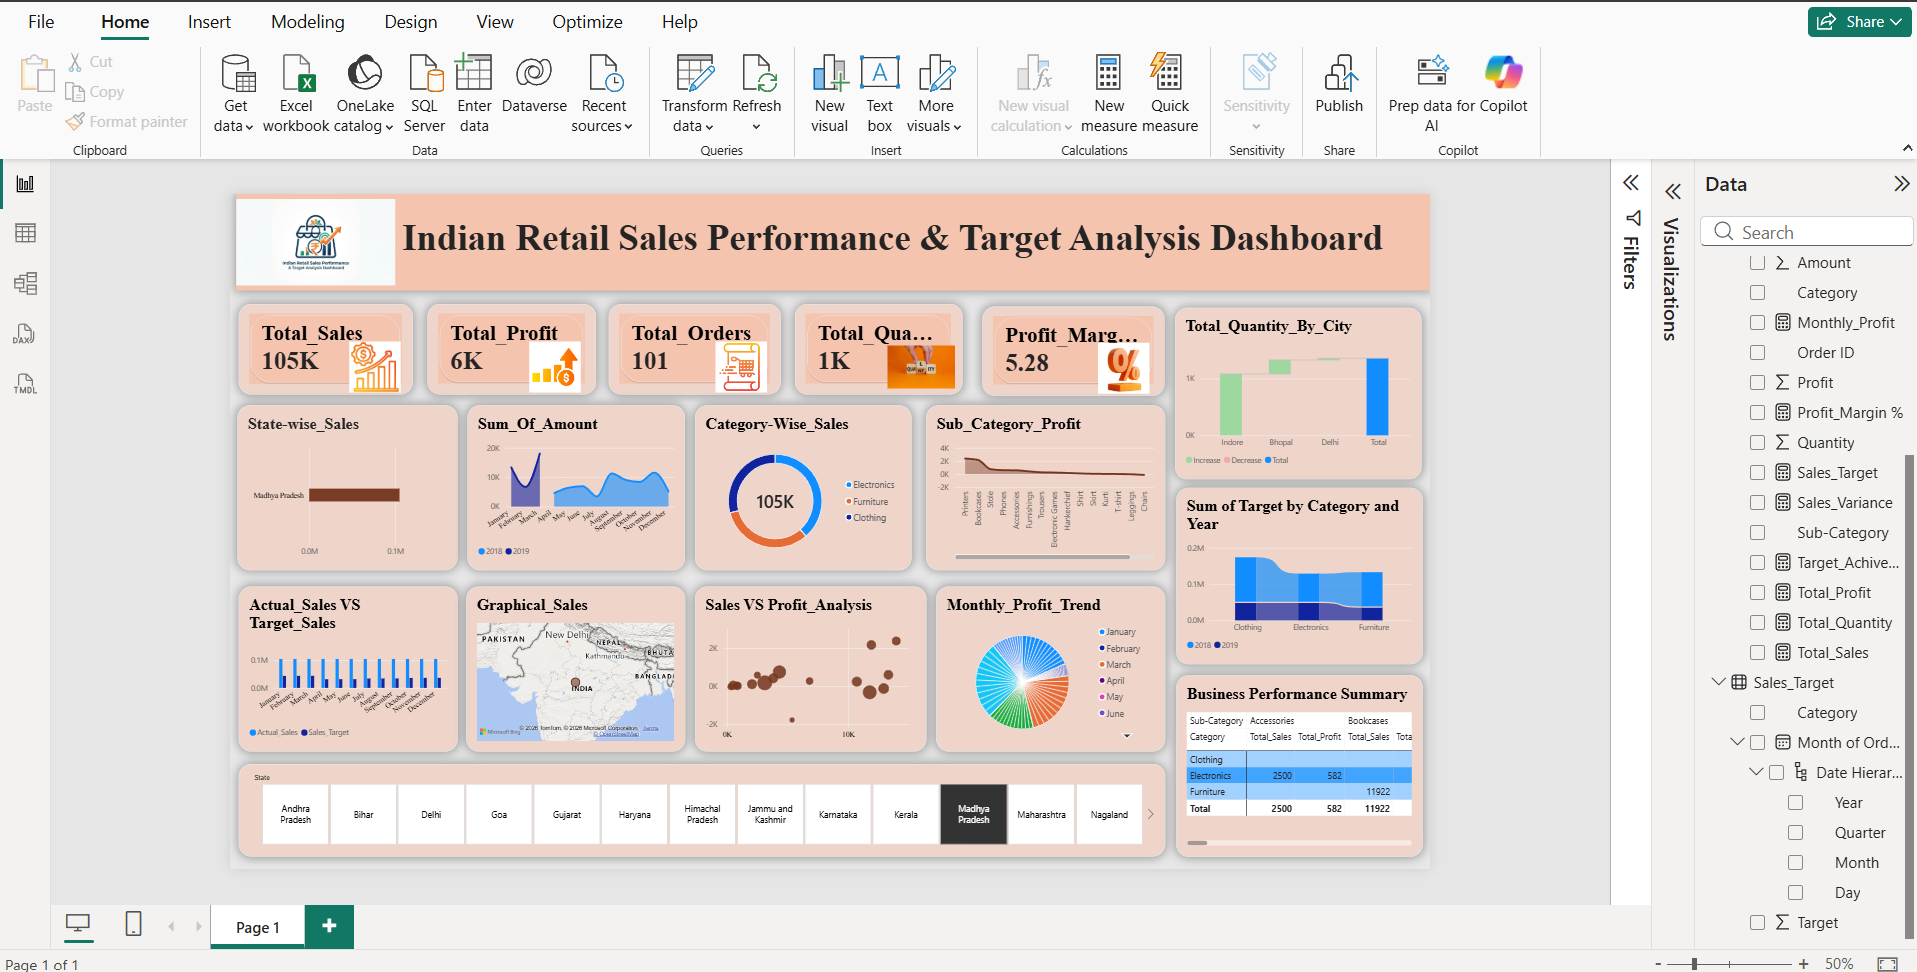

What the dashboard file says about the page in this screenshot:
{"tool":"powerbi","page":{"name":"Page 1","canvas":[1920,1080],"ordinal":0},"visuals":[{"type":"textbox","box":[10,0,1910,154],"z":0},{"type":"image","box":[10,0,254,154],"z":1000},{"type":"cardVisual","fields":{"Data":["Order_Details.Total_Sales"]},"box":[13.3,175,278.3,145],"z":2000},{"type":"cardVisual","fields":{"Data":["Order_Details.Total_Profit"]},"box":[315,175,269.6,144.8],"z":3000},{"type":"cardVisual","fields":{"Data":["List_of_orders.Total_Orders"]},"box":[606.2,175.5,275.1,144.8],"z":4000},{"type":"cardVisual","fields":{"Data":["Order_Details.Total_Quantity"]},"box":[904,176,267.8,144.8],"z":5000},{"type":"cardVisual","fields":{"Data":["Order_Details.Profit_Margin_%"]},"box":[1203.4,179.2,291.4,143],"z":6000},{"type":"clusteredBarChart","title":"State-wise_Sales","fields":{"Category":["List_of_orders.State"],"Y":["Sum(Order_Details.Amount)"]},"box":[12,338,352,264],"z":7000},{"type":"lineChart","title":"Sum_Of_Amount","fields":{"Category":["List_of_orders.Order Date.Variation.Date Hierarchy.Month"],"Series":["List_of_orders.Order Date.Variation.Date Hierarchy.Year"],"Y":["Sum(Order_Details.Amount)"]},"box":[380,338,348,264],"z":8000},{"type":"donutChart","title":"Category-Wise_Sales","fields":{"Category":["Order_Details.Category"],"Y":["Sum(Order_Details.Amount)"]},"box":[744,338,346,264],"z":9000},{"type":"stackedAreaChart","title":"Sub_Category_Profit","fields":{"Category":["Order_Details.Sub-Category"],"Y":["Sum(Order_Details.Profit)"]},"box":[1114,338,382,264],"z":10000},{"type":"clusteredColumnChart","title":"Actual_Sales VS Target_Sales","fields":{"Category":["Sales_Target.Month of Order Date.Variation.Date Hierarchy.Month"],"Y":["Order_Details.Actual_Sales","Order_Details.Sales_Target"]},"box":[14,628,350,264],"z":11000},{"type":"map","title":"Graphical_Sales","fields":{"Category":["List_of_orders.State"],"Size":["Sum(Order_Details.Amount)"]},"box":[378,628,350,264],"z":12000},{"type":"scatterChart","title":"Sales VS Profit_Analysis","fields":{"Category":["Order_Details.Sub-Category"],"Size":["Sum(Order_Details.Quantity)"],"X":["Sum(Order_Details.Amount)"],"Y":["Sum(Order_Details.Profit)"]},"box":[744,628,370,264],"z":13000},{"type":"pieChart","title":"Monthly_Profit_Trend","fields":{"Category":["List_of_orders.Order Date.Variation.Date Hierarchy.Month"],"Series":["Sales_Target.Month of Order Date"],"Y":["Order_Details.Total_Profit"]},"box":[1130,628,366,264],"z":14000},{"type":"slicer","fields":{"Values":["List_of_orders.State"]},"box":[14,912,1482,148],"z":15000},{"type":"pivotTable","title":"Business Performance Summary","fields":{"Columns":["Order_Details.Sub-Category"],"Rows":["Order_Details.Category"],"Values":["Order_Details.Total_Sales","Order_Details.Total_Profit"]},"box":[1514,770,394,290],"z":16000},{"type":"waterfallChart","title":"Total_Quantity_By_City","fields":{"Category":["List_of_orders.City"],"Y":["Sum(Order_Details.Quantity)"]},"box":[1512,182,394,274],"z":17000},{"type":"ribbonChart","fields":{"Category":["Sales_Target.Category"],"Series":["Sales_Target.Month of Order Date.Variation.Date Hierarchy.Year"],"Y":["Sum(Sales_Target.Target)"]},"box":[1514,470,394,282],"z":18000},{"type":"textbox","box":[170,246.7,121.7,75],"z":19000},{"type":"textbox","box":[263.3,246.7,136.7,153.3],"z":20000},{"type":"image","box":[181.7,236.7,100,81.7],"z":21000},{"type":"image","box":[470,236.7,100,81.7],"z":21001},{"type":"image","box":[768.3,236.7,100,81.7],"z":21002},{"type":"image","box":[1051.7,236.7,108.3,81.7],"z":21003},{"type":"image","box":[1380,238.3,100,81.7],"z":21004}]}

Visuals, with their boxes on the page's 1920x1080 design canvas (x1, y1, x2, y2). These are canvas units, not pixel positions in the 1917x972 screenshot, which may show the page scaled, cropped or inside an application window:
textbox: 10/0/1920/154
image: 10/0/264/154
cardVisual - Order_Details.Total_Sales: 13/175/292/320
cardVisual - Order_Details.Total_Profit: 315/175/585/320
cardVisual - List_of_orders.Total_Orders: 606/176/881/320
cardVisual - Order_Details.Total_Quantity: 904/176/1172/321
cardVisual - Order_Details.Profit_Margin_%: 1203/179/1495/322
"State-wise_Sales" clusteredBarChart: 12/338/364/602
"Sum_Of_Amount" lineChart: 380/338/728/602
"Category-Wise_Sales" donutChart: 744/338/1090/602
"Sub_Category_Profit" stackedAreaChart: 1114/338/1496/602
"Actual_Sales VS Target_Sales" clusteredColumnChart: 14/628/364/892
"Graphical_Sales" map: 378/628/728/892
"Sales VS Profit_Analysis" scatterChart: 744/628/1114/892
"Monthly_Profit_Trend" pieChart: 1130/628/1496/892
slicer - List_of_orders.State: 14/912/1496/1060
"Business Performance Summary" pivotTable: 1514/770/1908/1060
"Total_Quantity_By_City" waterfallChart: 1512/182/1906/456
ribbonChart - Sales_Target.Category x Sales_Target.Month of Order Date.Variation.Date Hierarchy.Year: 1514/470/1908/752
textbox: 170/247/292/322
textbox: 263/247/400/400
image: 182/237/282/318
image: 470/237/570/318
image: 768/237/868/318
image: 1052/237/1160/318
image: 1380/238/1480/320
